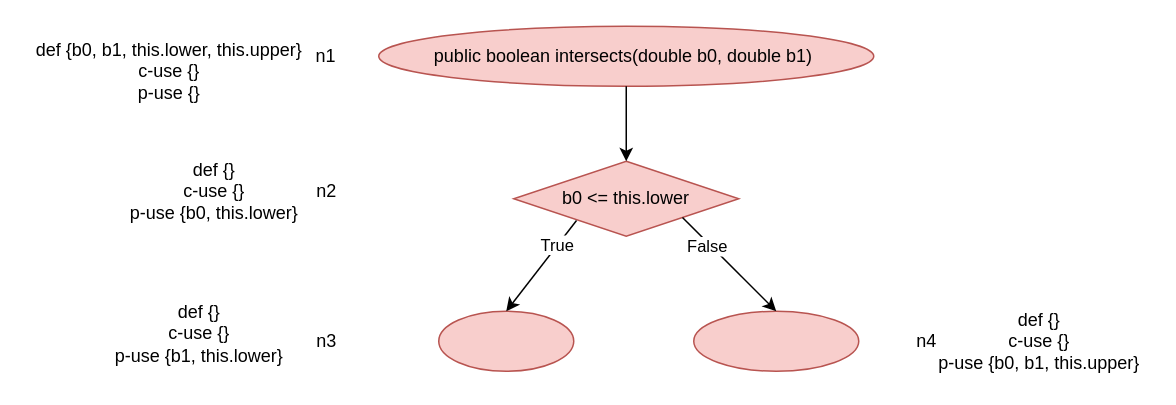
Image size: 1176x405. Some labels were removed from this diagram. The centre of each missing label's shape, as x and y in pixels:
b0 < this.upper && b1 >= b0: point (775, 340)
b1 <= this.lower: point (505, 340)
